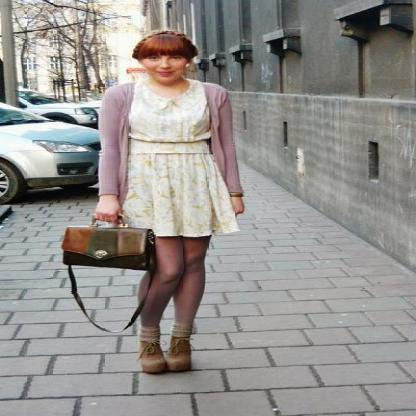bag: (62, 208, 175, 307)
dress: (123, 78, 239, 236)
jacket: (90, 80, 244, 210)
shoe: (125, 317, 209, 377)
